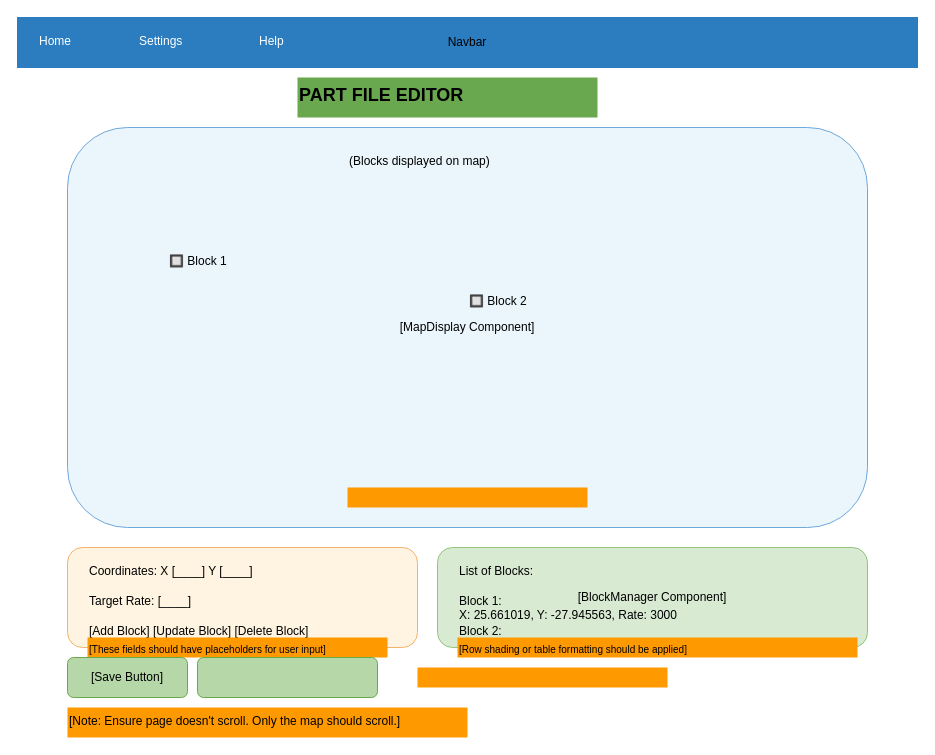
Some shapes in this 935 by 755 pixel diagram are drawn without their labels. The shapes that lost their labels are listed below. From the top down, each one's box as (x1, y1, x2, y2) in pixels, then its label:
(347, 487, 587, 507): [Grid or Map Background]
(66, 546, 418, 648): [ControlForm Component]
(196, 656, 378, 698): [Generate Part File Button]
(417, 667, 667, 687): [Tooltips should be added for buttons]
